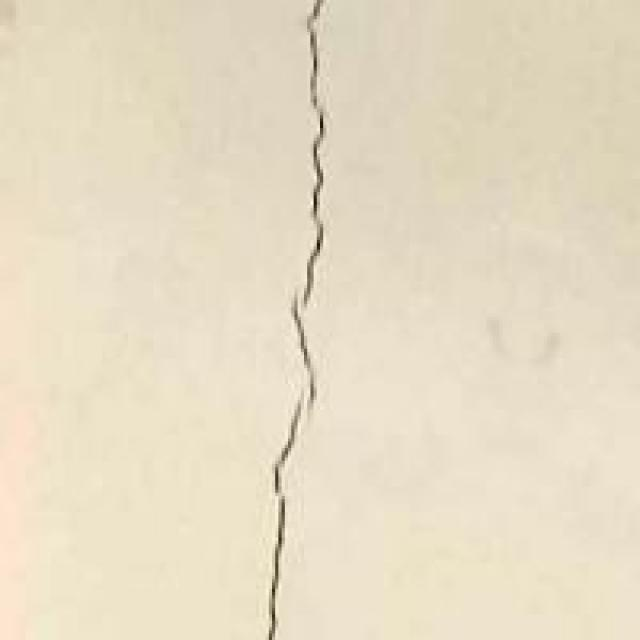Crack: (231, 0, 388, 637)
